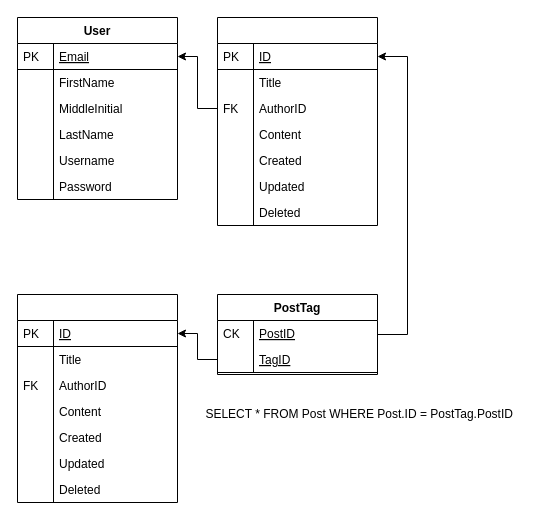
The diagram is 545 pixels wide and 523 high, and some of its shapes have lost their labels. Here are the shapes that lost their labels. From the top down, the box of each, then its label:
(216, 16, 378, 226): Post
(16, 294, 178, 502): Tag
